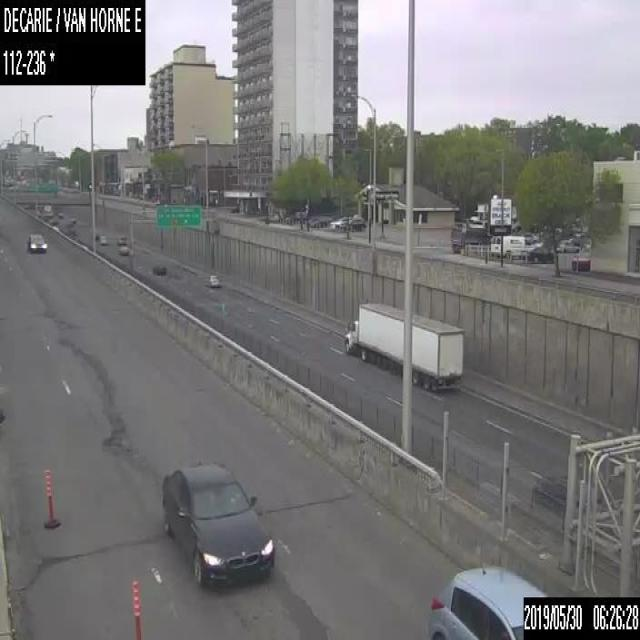construction: (45, 467, 59, 528), (130, 577, 140, 639)
vehicle: (162, 462, 277, 584), (344, 302, 462, 389), (426, 561, 546, 639), (469, 203, 516, 225), (490, 234, 524, 258), (523, 241, 554, 262), (26, 231, 46, 252), (556, 238, 581, 252), (309, 211, 331, 226), (344, 217, 366, 232), (330, 215, 350, 228), (203, 273, 219, 287), (152, 261, 166, 275), (523, 232, 539, 244), (115, 243, 129, 254), (99, 234, 108, 246), (116, 234, 126, 244)
